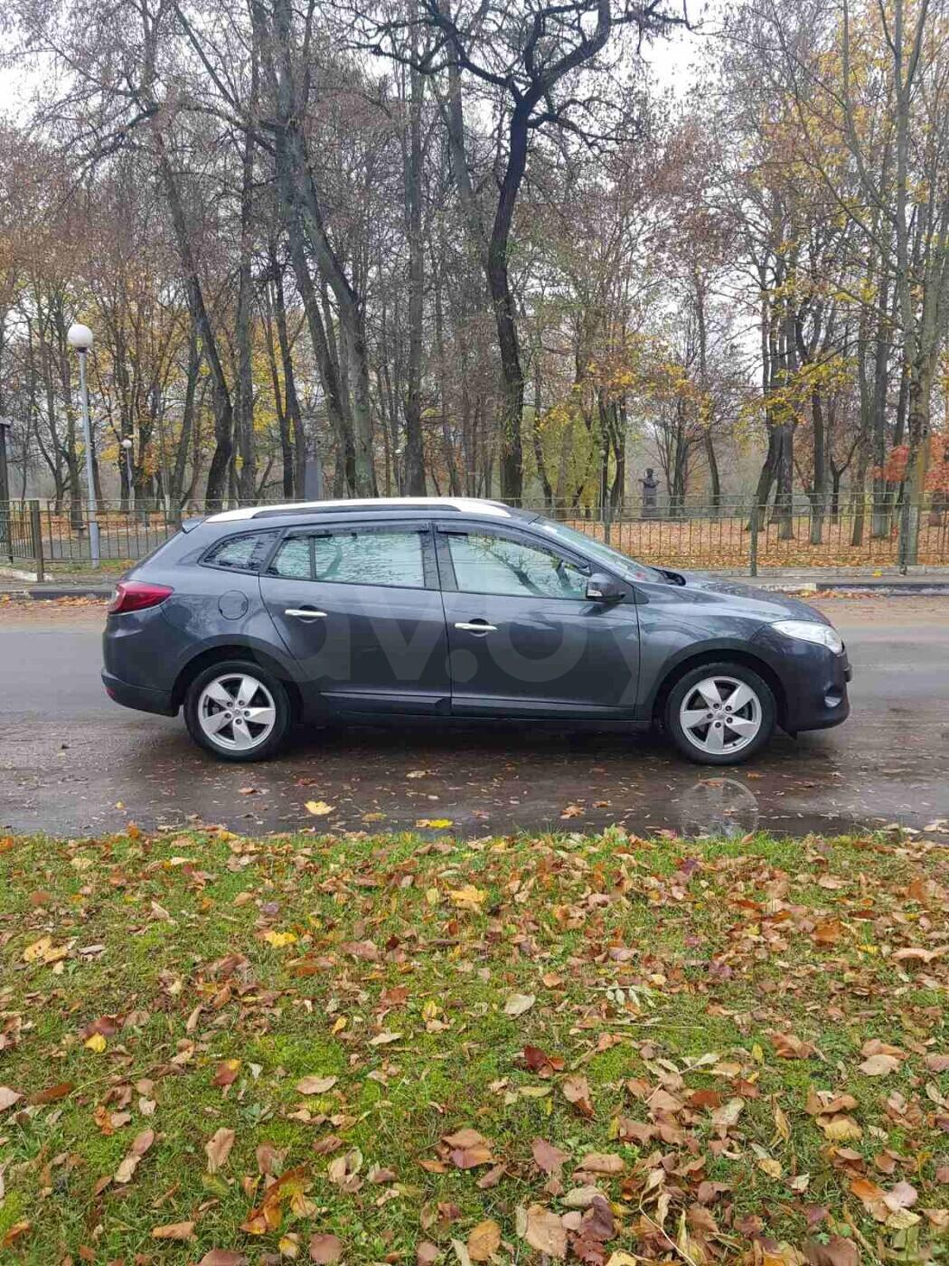Megane_2008-2014: (108, 496, 860, 790)
